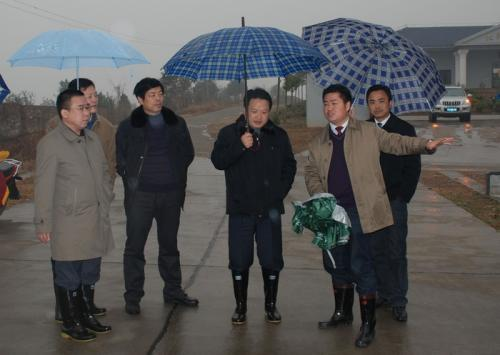boots: (50, 285, 107, 340), (352, 285, 381, 345), (318, 279, 354, 324), (223, 271, 250, 323), (259, 271, 281, 320), (163, 292, 199, 306), (392, 305, 407, 320), (125, 300, 140, 313)
person: (303, 84, 456, 348), (32, 87, 115, 342), (210, 87, 297, 325), (114, 77, 199, 315), (52, 77, 117, 319), (364, 84, 421, 321)
